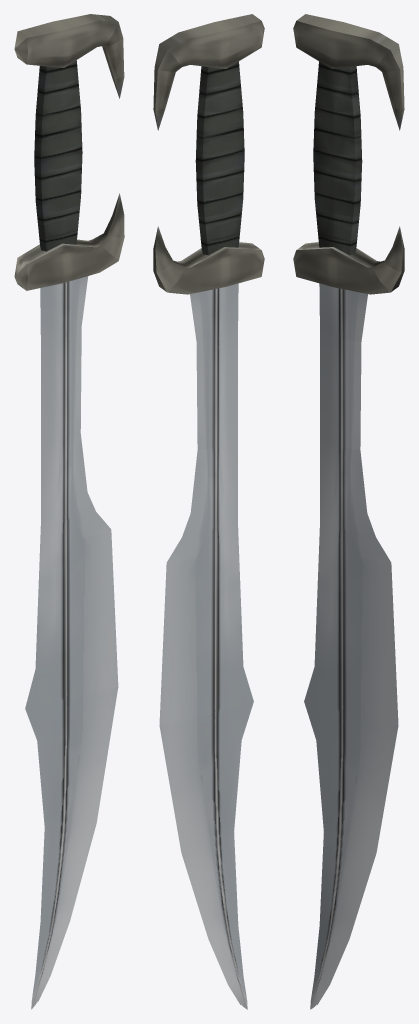
File: spartan.FBX
The picture shows the model from 3 angles, left to right: view 1: azimuth 30°, elevation 25°; view 2: azimuth 210°, elevation 25°; view 3: azimuth 330°, elevation 25°; orthographic projection.
Visible parts, largest first — view 1: spartan; view 2: spartan; view 3: spartan.
Boxes of the visible parts, x1,y1,x2,y2 form: spartan: [14, 14, 124, 1009]; spartan: [153, 14, 264, 1009]; spartan: [293, 14, 404, 1009].
Size of the model in its own units: 7.59 by 65.06 by 1.88.
